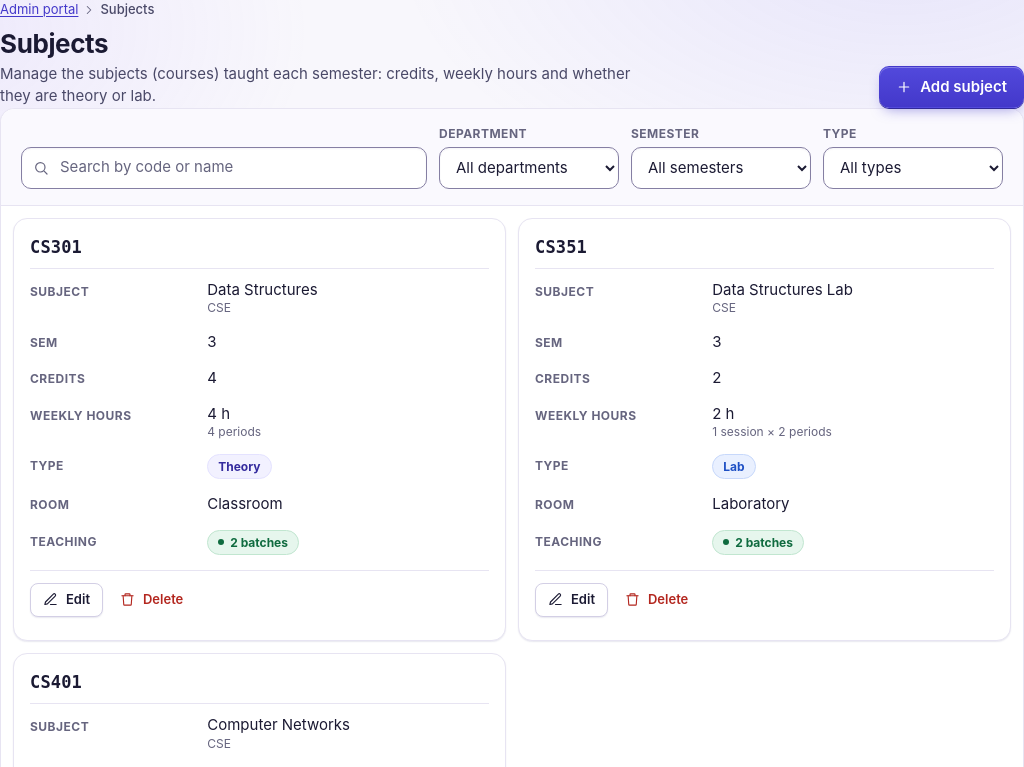
Subjects screen - create form (DIY-TC05, TC07, TC08) › DIY-TC07: an empty form reports every required field and sends nothing
Step 1. Click the button "Add subject" → (952, 87), box [879,66,1023,108]
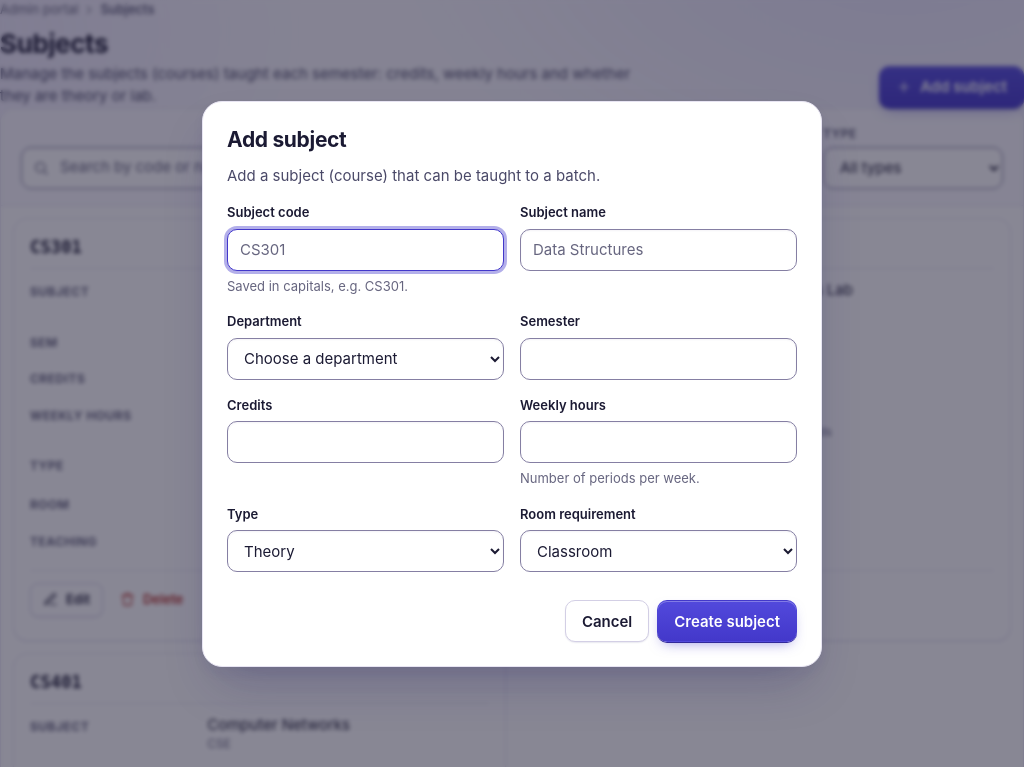
Step 2. Click the button "Create subject" → (727, 621), box [657,600,797,642]
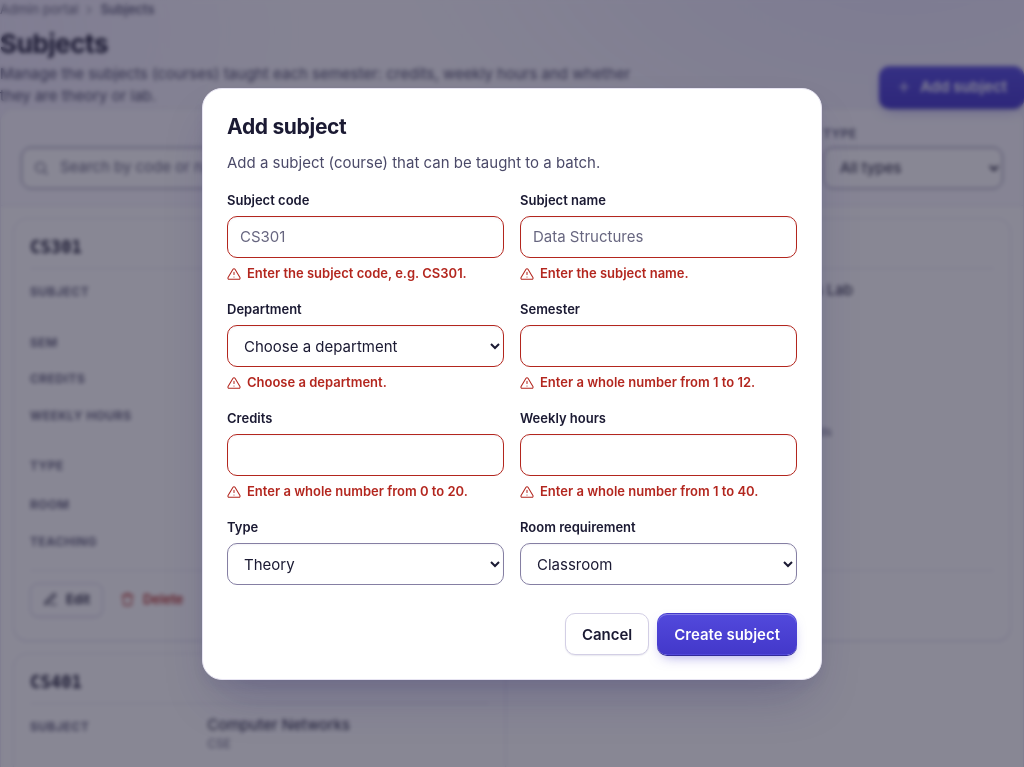
Check: the text "Enter the subject code, e.g. CS301." is shown, box [227,264,504,284]
Check: the text "Enter the subject name." is shown, box [520,265,689,281]
Check: the text "Choose a department." is shown, box [227,374,387,390]
